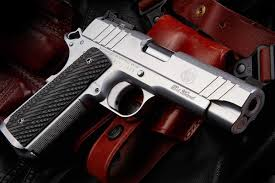gun: (5, 12, 269, 155)
